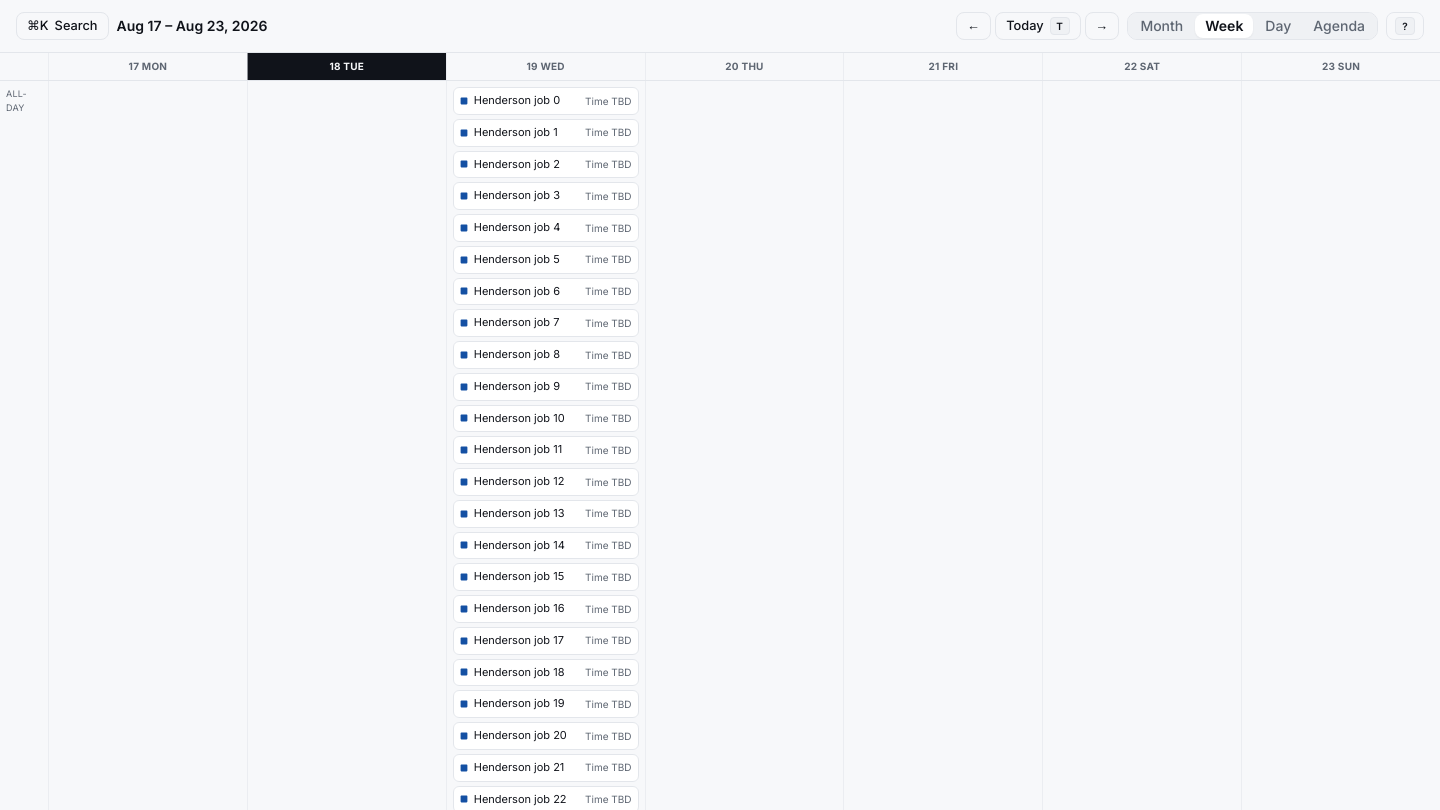
Test: CalendarCanvas — the command palette searches the feed › caps the rendered feed results and says how many it is hiding
The image size is (1440, 810).
Press k
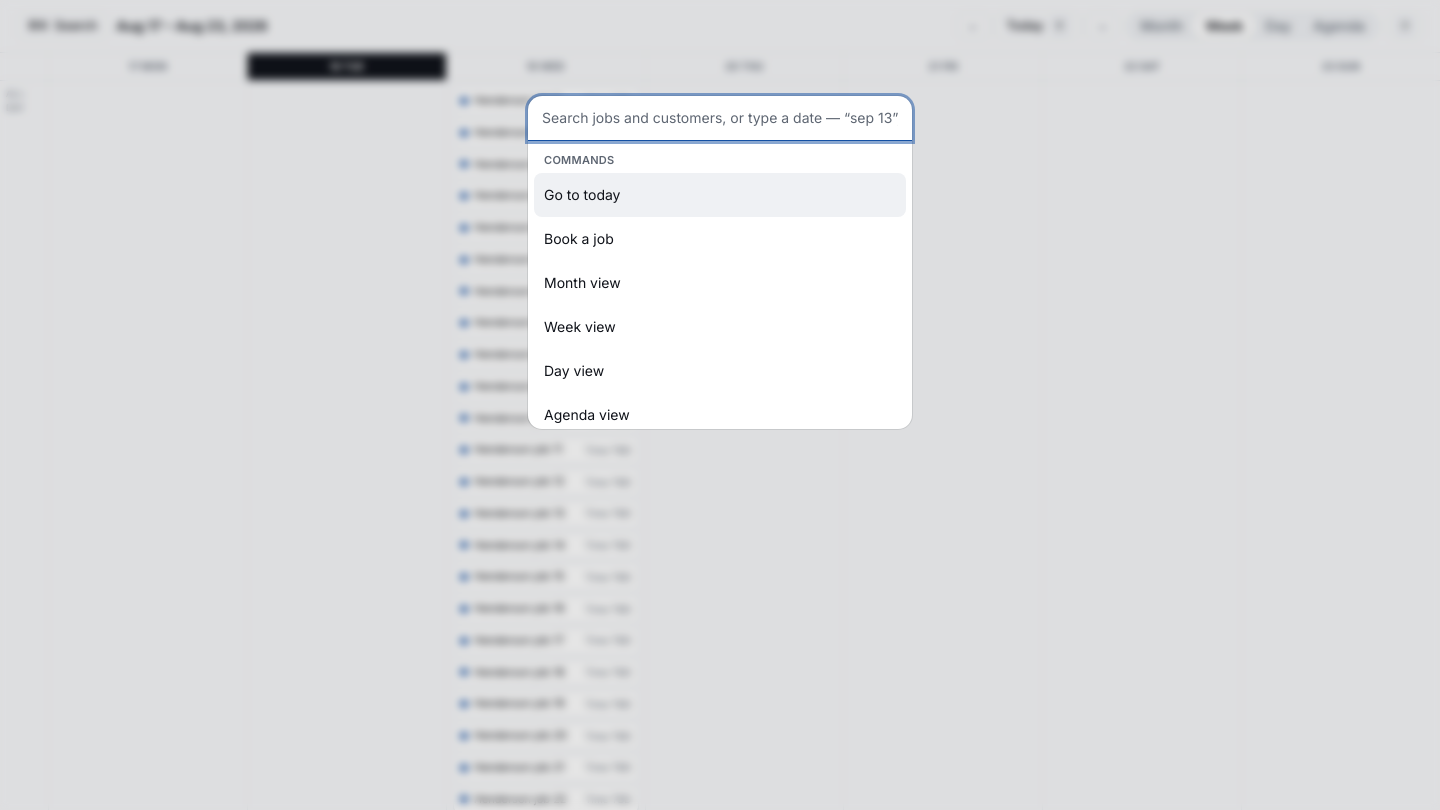
Replace the text in the dropdown with "Henderson". click: (720, 118)
box: [528,96,912,141]
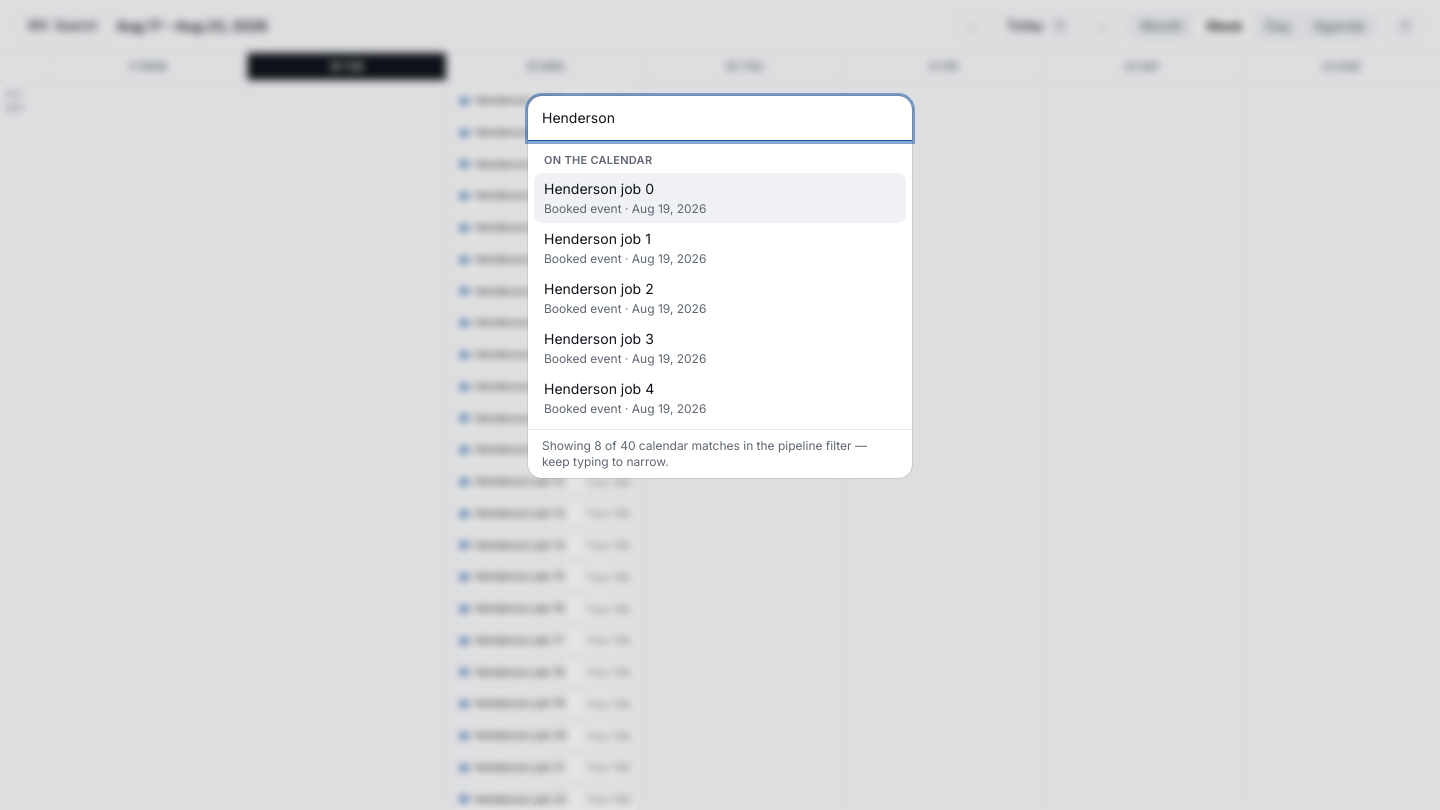
Now the text "Showing 8 of 40 calendar matches" is shown, box [542,438,867,469]
